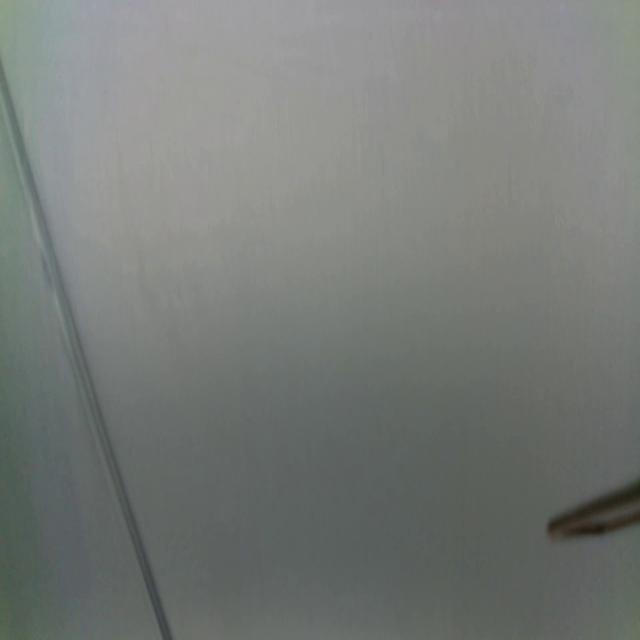crease: (0, 55, 172, 640)
